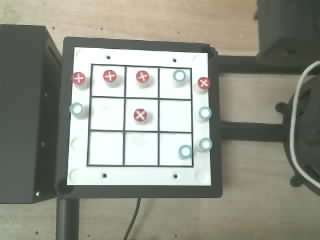blue circle: (69, 103, 84, 116), (179, 145, 192, 159), (199, 138, 212, 151), (199, 106, 211, 119), (173, 70, 185, 82)
board: (67, 48, 212, 185)
cells: (89, 132, 122, 164), (160, 133, 192, 165), (125, 133, 157, 165), (90, 98, 123, 129), (125, 99, 157, 130), (159, 100, 191, 131), (92, 66, 124, 96), (126, 67, 157, 97), (160, 68, 190, 98)
grid: (87, 64, 193, 167)
red cross: (136, 70, 149, 83), (134, 108, 147, 121), (71, 72, 85, 84), (197, 77, 210, 89), (103, 70, 116, 82)
